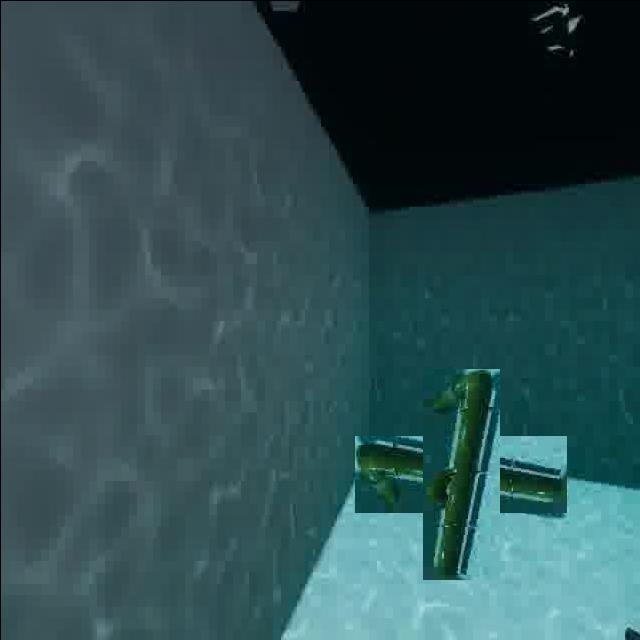Pipe: (388, 401, 532, 546)
